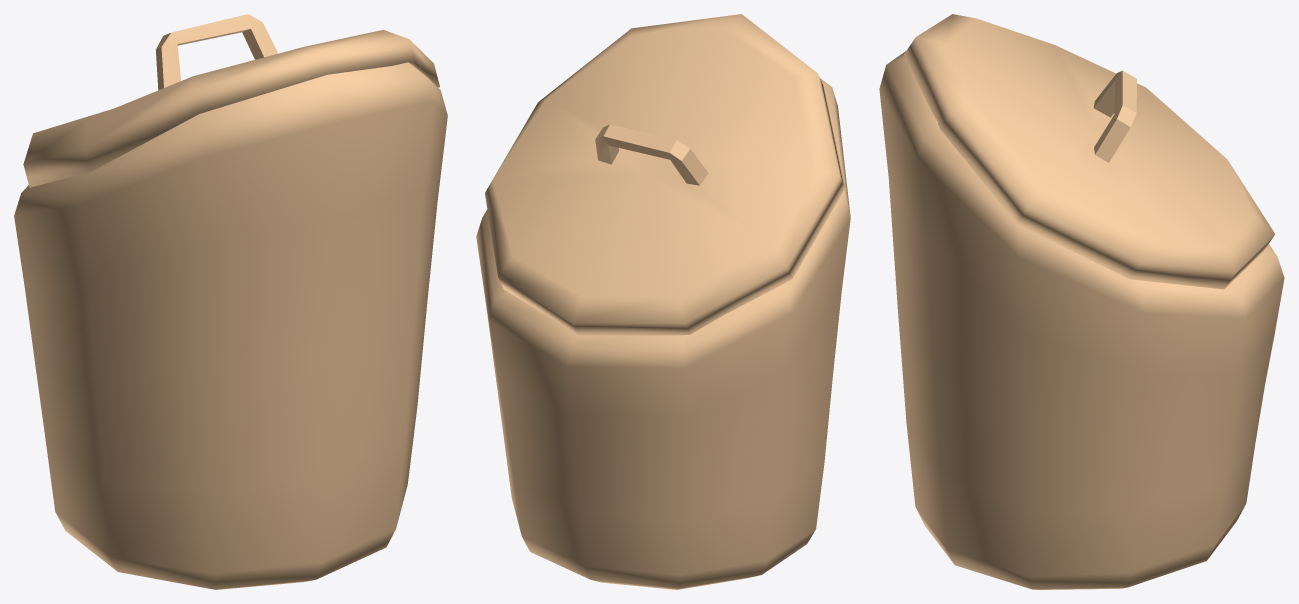
Rendered from garbage_can_03.fbx.
3 views of the same model, side by side, from view 1: azimuth 30°, elevation 25°; view 2: azimuth 150°, elevation 25°; view 3: azimuth 270°, elevation 25° (orthographic). The views are drawn at different scales.
Visible parts, largest first — view 1: pCylinder31, polySurface31; view 2: pCylinder31, polySurface31; view 3: pCylinder31, polySurface31.
Part boxes in pixels (x1=…): pCylinder31: x1=14, y1=62, x2=447, y2=589; polySurface31: x1=23, y1=14, x2=439, y2=187; pCylinder31: x1=476, y1=78, x2=850, y2=589; polySurface31: x1=485, y1=14, x2=845, y2=335; pCylinder31: x1=879, y1=51, x2=1284, y2=589; polySurface31: x1=904, y1=14, x2=1275, y2=289.
Bounding box in the file's own units: 124 × 176 × 130.
